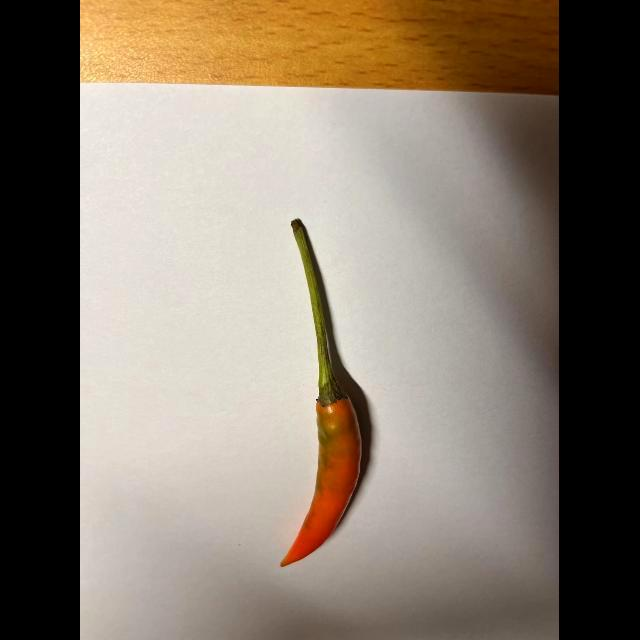chili_pepper: (255, 212, 384, 578)
